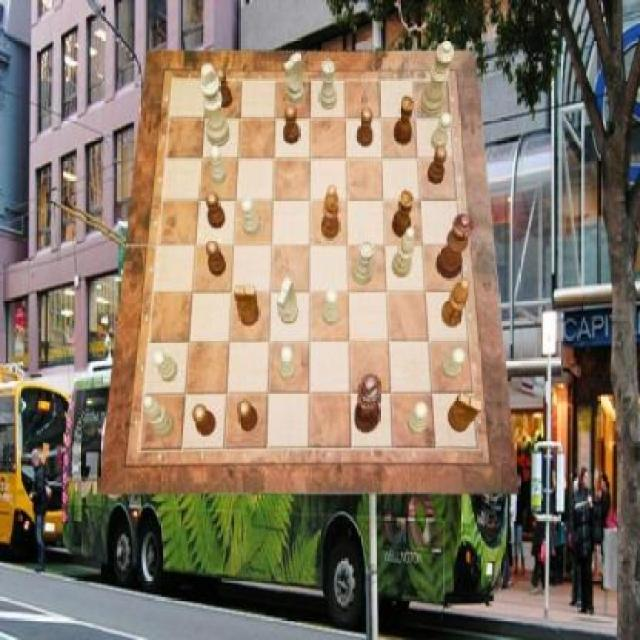bishop: (442, 277, 471, 328), (322, 185, 341, 239)
black-bishop: (356, 374, 382, 432)
black-king: (448, 392, 482, 432), (234, 285, 258, 326)
black-knight: (192, 405, 216, 437), (428, 146, 447, 185), (206, 191, 226, 228), (206, 240, 226, 276), (215, 68, 233, 108), (237, 398, 258, 432), (283, 106, 300, 145), (357, 108, 373, 148)
black-pawn: (437, 214, 475, 279)
black-queen: (392, 191, 415, 238), (394, 96, 414, 146)
black-rook: (143, 395, 175, 438), (392, 228, 416, 278)
white-bishop: (200, 64, 230, 148)
white-king: (284, 52, 306, 105), (277, 277, 299, 323)
white-knight: (431, 112, 452, 151), (154, 349, 178, 383), (242, 198, 262, 237), (442, 348, 466, 380), (210, 146, 228, 185), (408, 402, 428, 436), (279, 346, 296, 382), (322, 290, 339, 326)
white-pawn: (420, 40, 455, 116)
white-queen: (318, 60, 338, 111), (352, 242, 375, 286)
